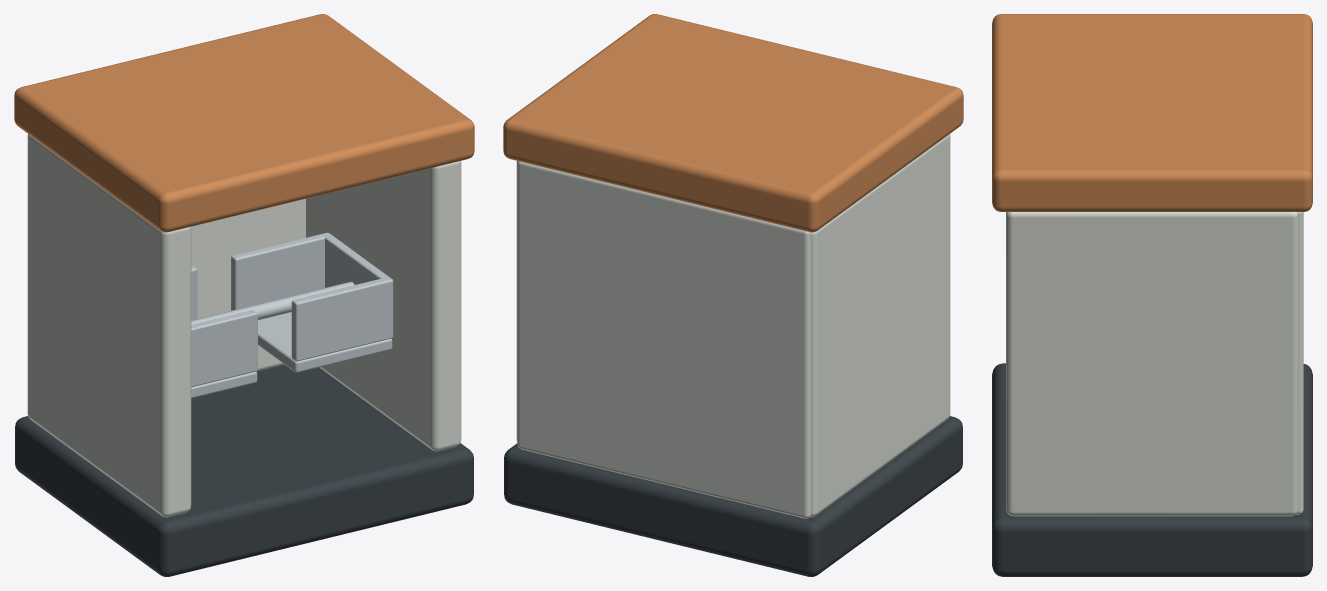
File: abandoned-weather-station-and-storm-shelter-tipping-bu-d9a525e1__31016.glb
3 renders of one model, left to right at view 1: azimuth 30°, elevation 25°; view 2: azimuth 150°, elevation 25°; view 3: azimuth 270°, elevation 25°, orthographic. The views are drawn at different scales.
Visible parts, largest first — view 1: tipping-bucket-housing; view 2: tipping-bucket-housing; view 3: tipping-bucket-housing.
Part boxes in pixels (x1,y1,x2,y2): tipping-bucket-housing: (14,14,474,576); tipping-bucket-housing: (503,14,963,576); tipping-bucket-housing: (992,14,1312,576).
Size of the model in its own units: 0.42 by 0.49 by 0.35.
